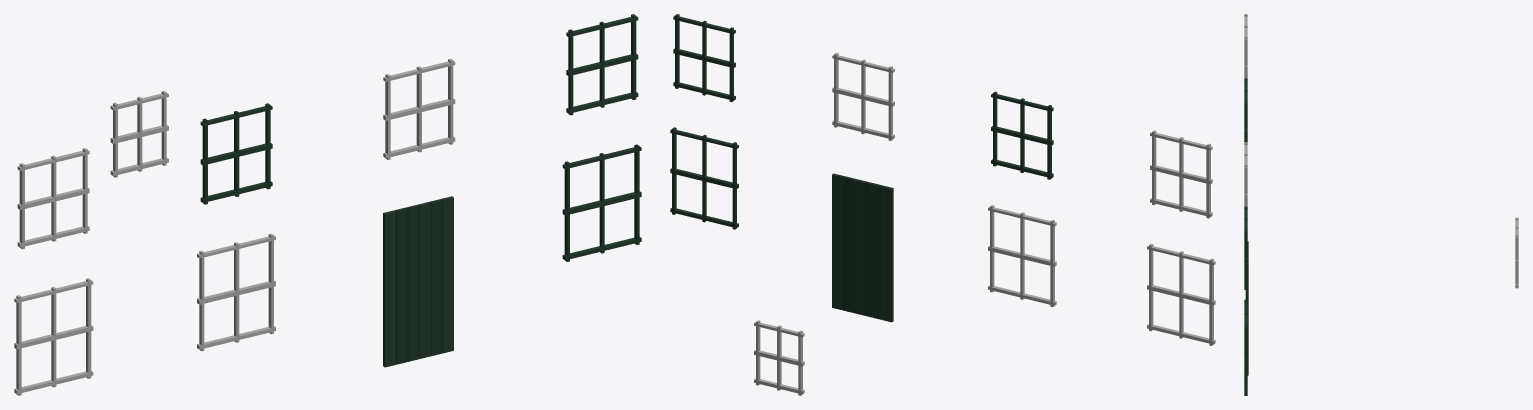
Rendered from SM_Bld_157_Wood.glb.
3 views of the same model, side by side, from view 1: azimuth 30°, elevation 25°; view 2: azimuth 150°, elevation 25°; view 3: azimuth 270°, elevation 25° (orthographic). The views are drawn at different scales.
Visible parts, largest first — view 1: SM_Bld_157_Wood; view 2: SM_Bld_157_Wood; view 3: SM_Bld_157_Wood.
Part boxes in pixels (bbox=[...]): SM_Bld_157_Wood: bbox=[14, 14, 641, 395]; SM_Bld_157_Wood: bbox=[670, 14, 1215, 395]; SM_Bld_157_Wood: bbox=[1244, 14, 1518, 395].
Size of the model in its own units: 8.98 by 4 by 4.74.
